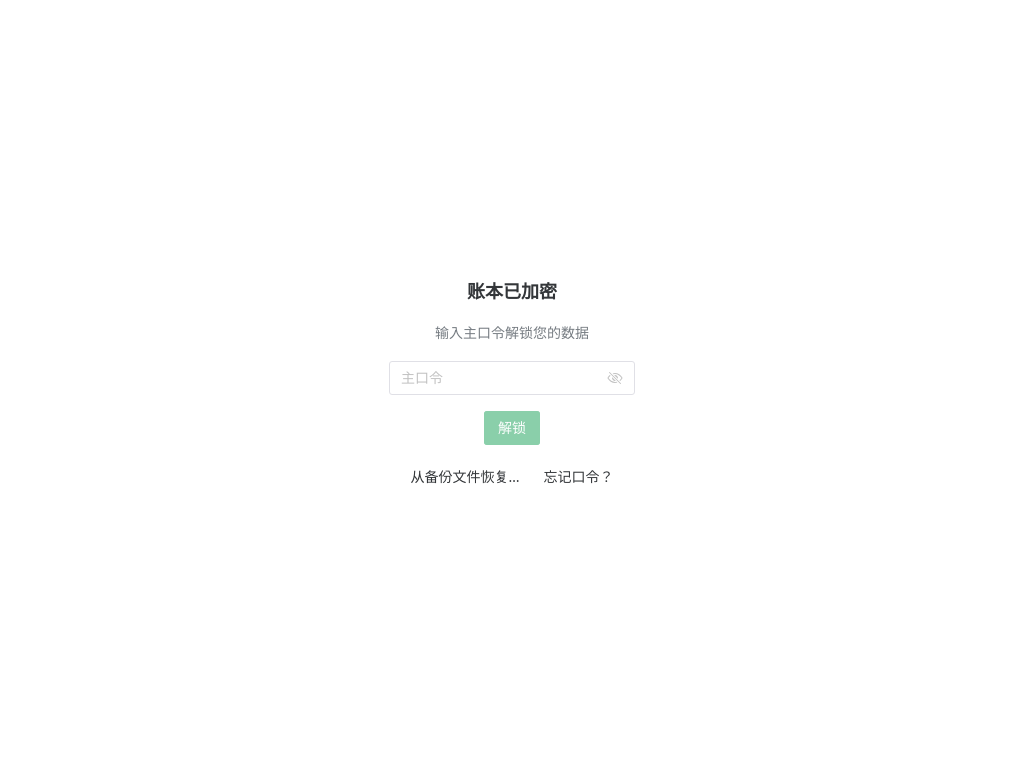
it: UnlockScreen.vue（加密锁定门·解锁屏流程） › 文件损坏码透出专属损坏提示，与合并口径并存（凭口令打开成功但完整性检查失败）
Step 1. Type "口令" into the password field with placeholder "主口令" → (502, 378), box [401, 361, 603, 395]
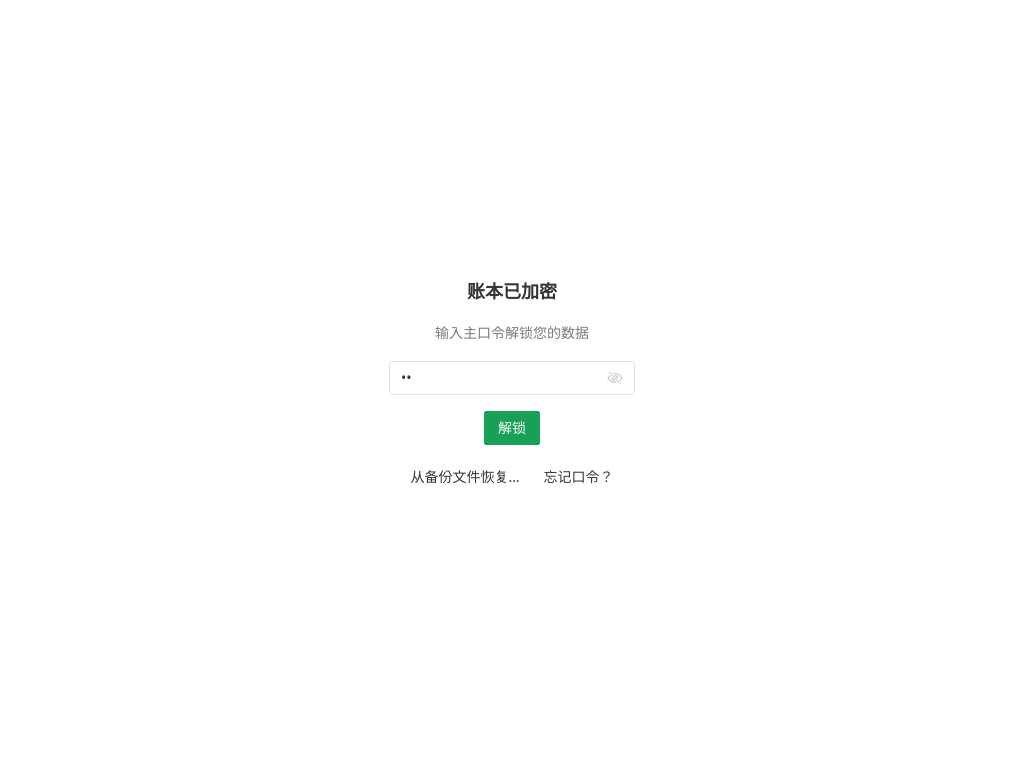
Step 2. Click the button "解锁" → (512, 428), box [484, 411, 540, 445]
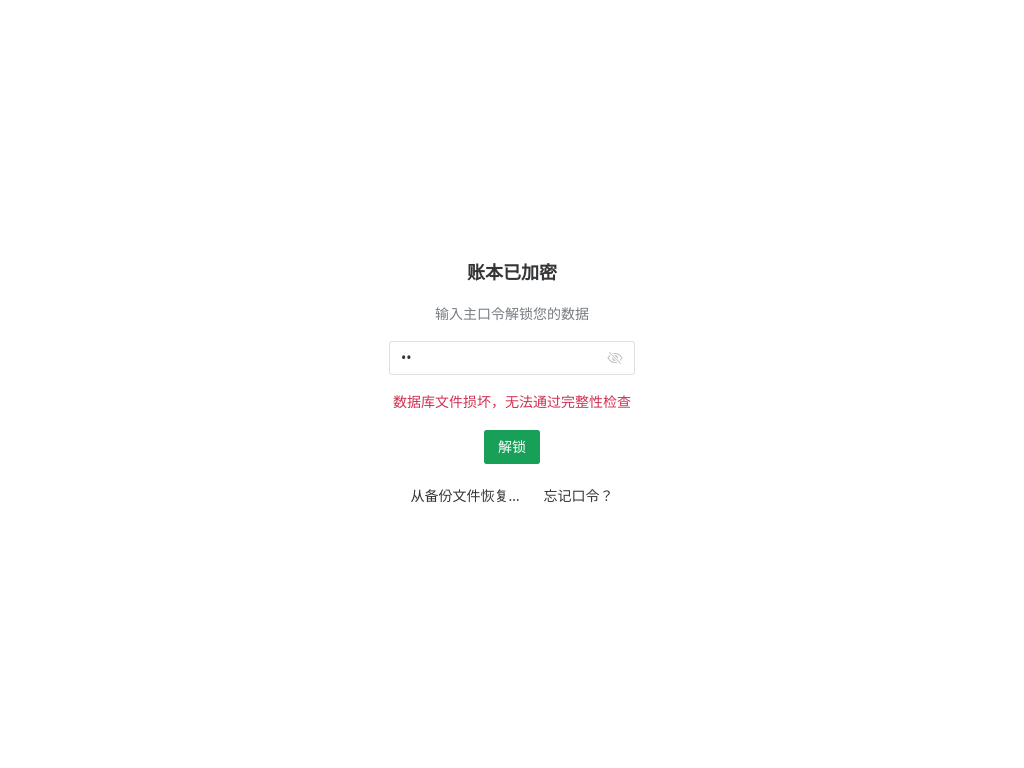
Result: the text "数据库文件损坏" is shown at [393, 392, 631, 411]
